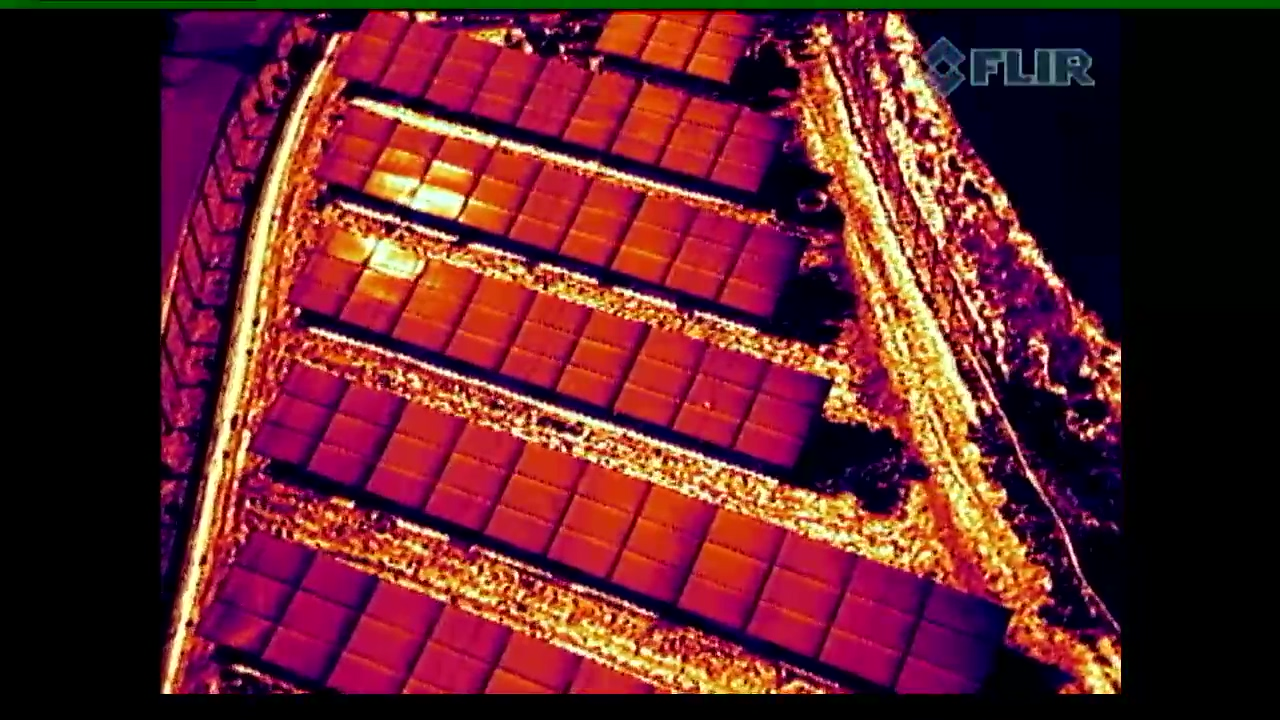hotspot: (668, 341, 770, 449)
